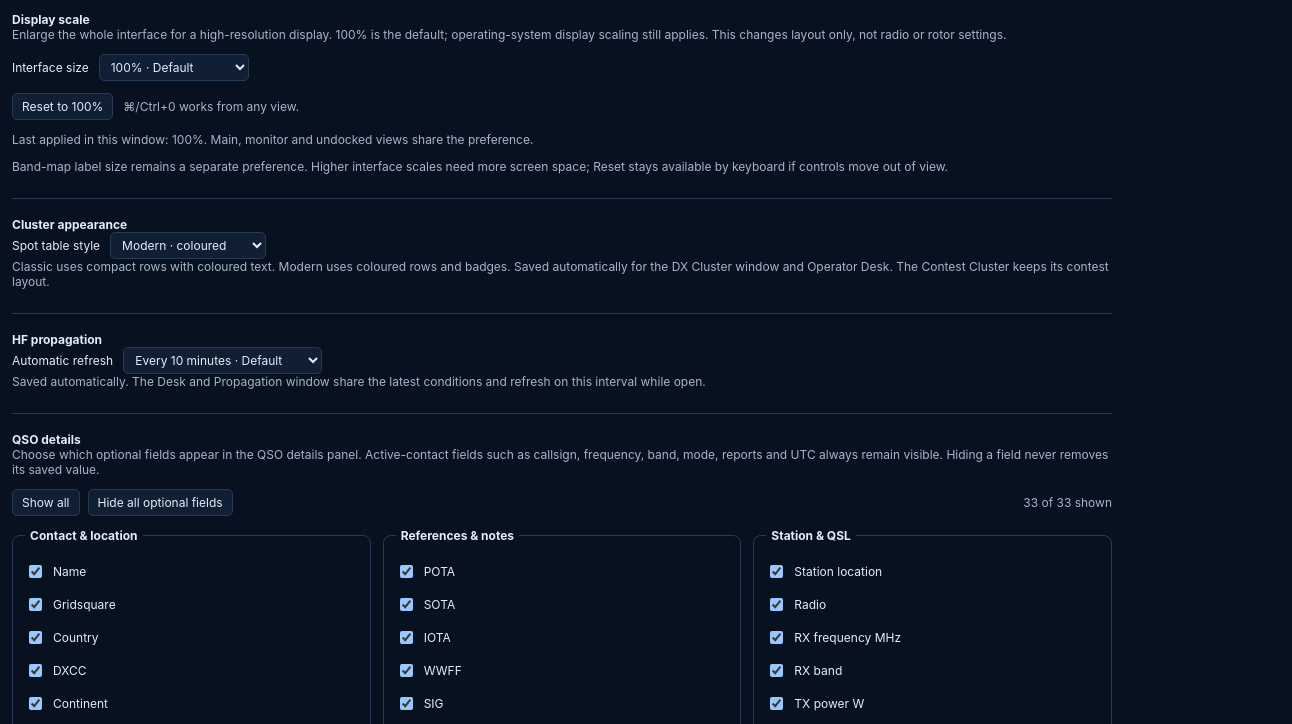
Test: opt-in display controls › defaults to 100% and applies an explicit display choice without secret or worker requests
Select "150%" in the dropdown named "Interface display scale" at (174, 68), box [99,54,249,81]
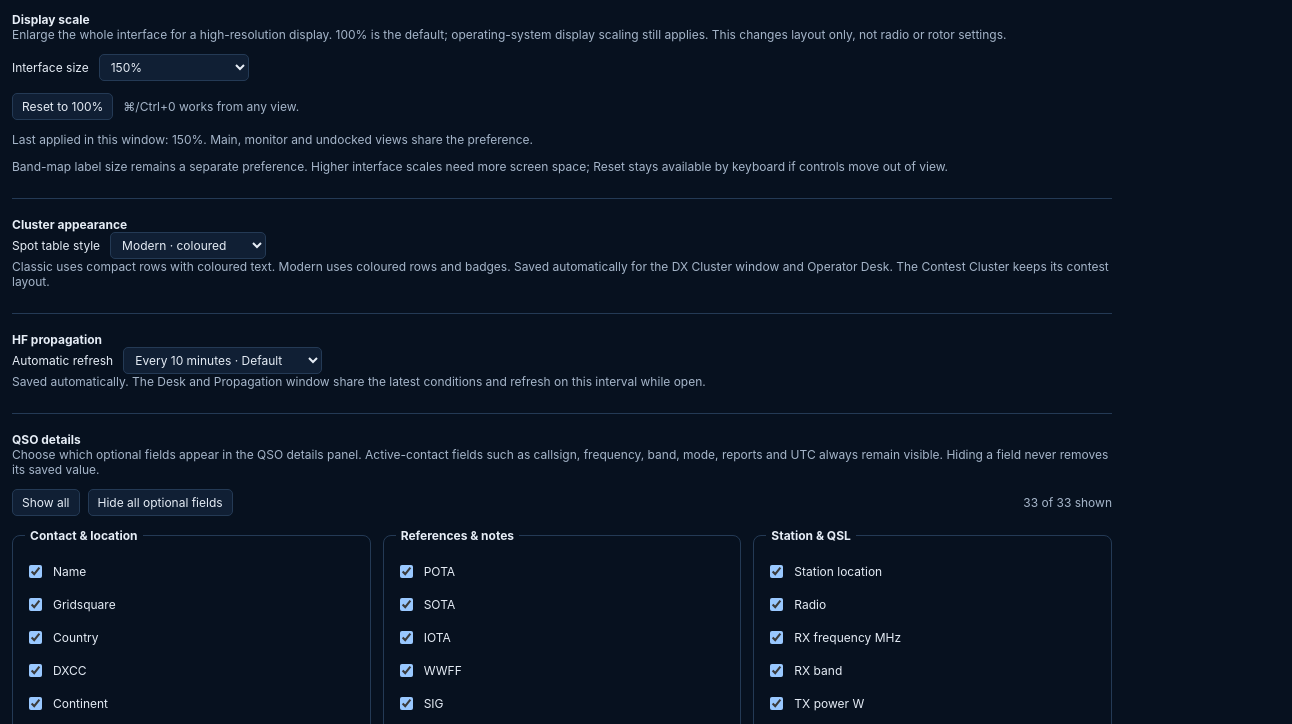
Now the text "Last applied in this window: 150%" is shown, box [12,132,207,147]
